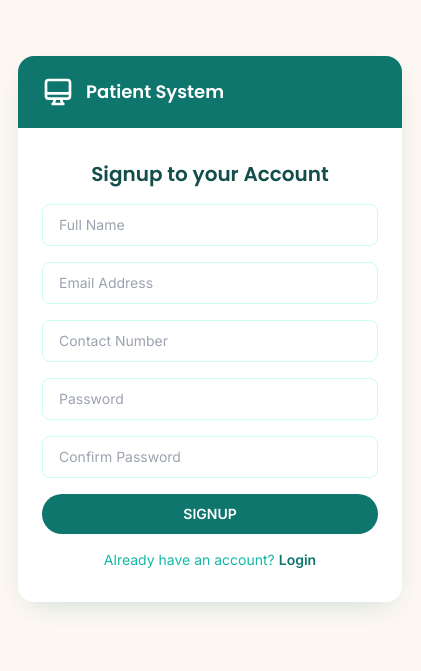
it: Signup page › shows validation errors when submitted empty
The image size is (421, 671).
Click the button "SIGNUP": (210, 514) [42, 494, 378, 534]
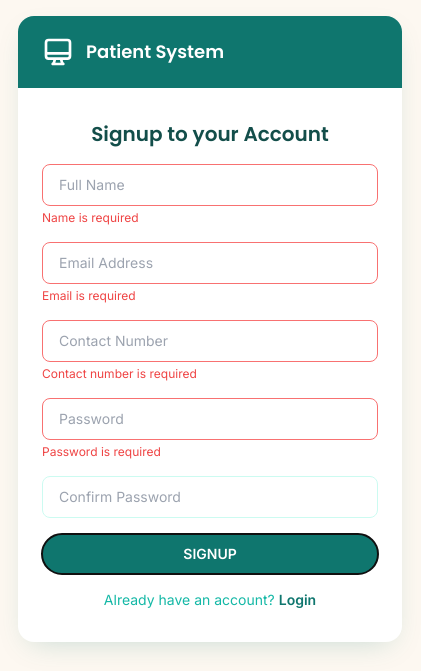
Result: the text "Name is required" is shown at [42, 210, 139, 225]
Result: the text "Email is required" is shown at [42, 288, 136, 303]
Result: the text "Contact number is required" is shown at [42, 366, 197, 381]
